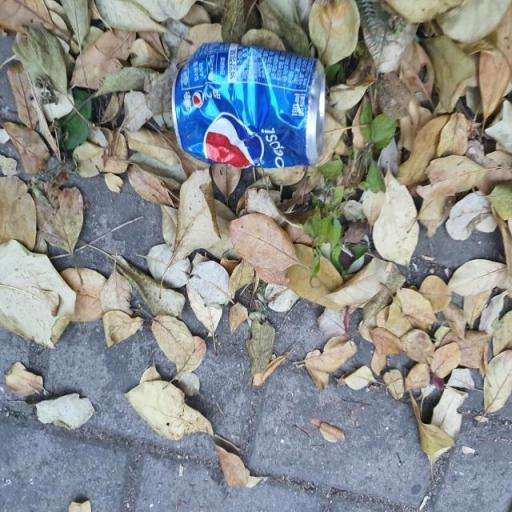metal: (164, 31, 358, 181)
